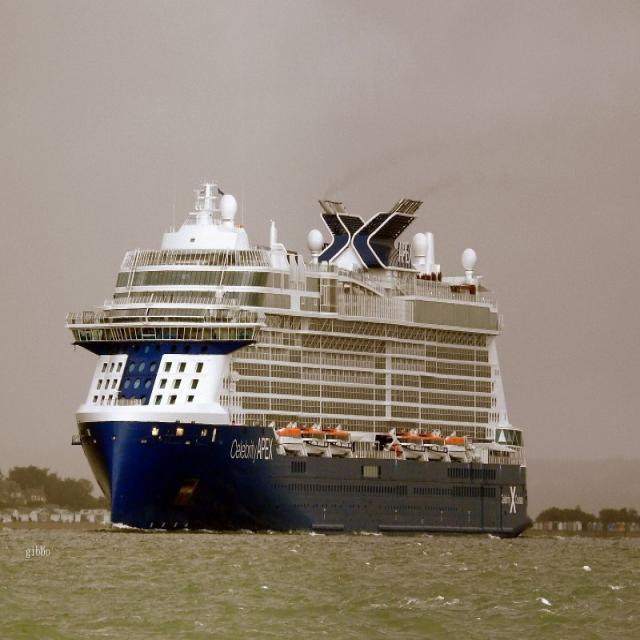cruises: (63, 176, 538, 544)
